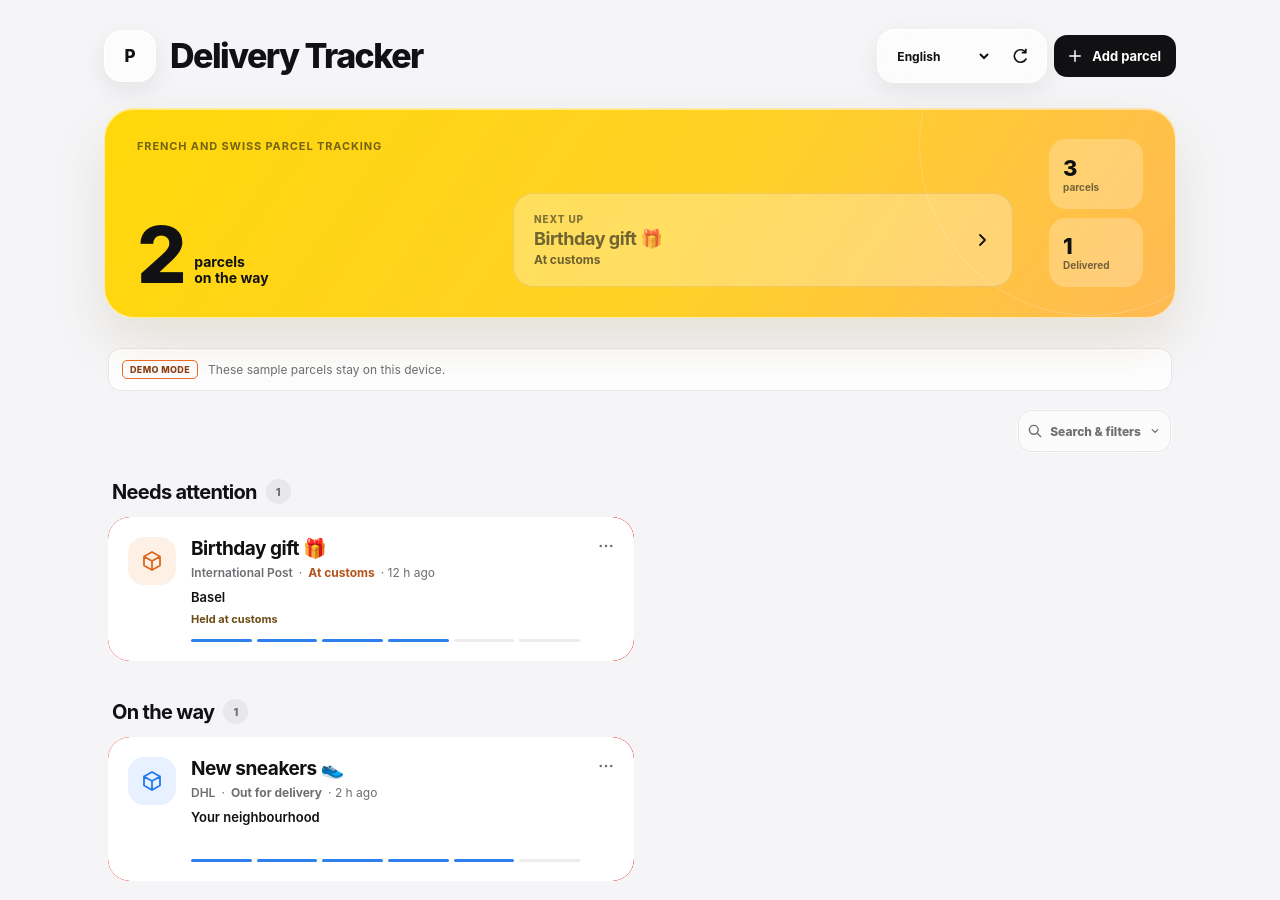
App › keeps the add sheet open and reports repository failures
Click the button with aria-label "add a parcel" at (1115, 56), box [1054,35,1176,77]
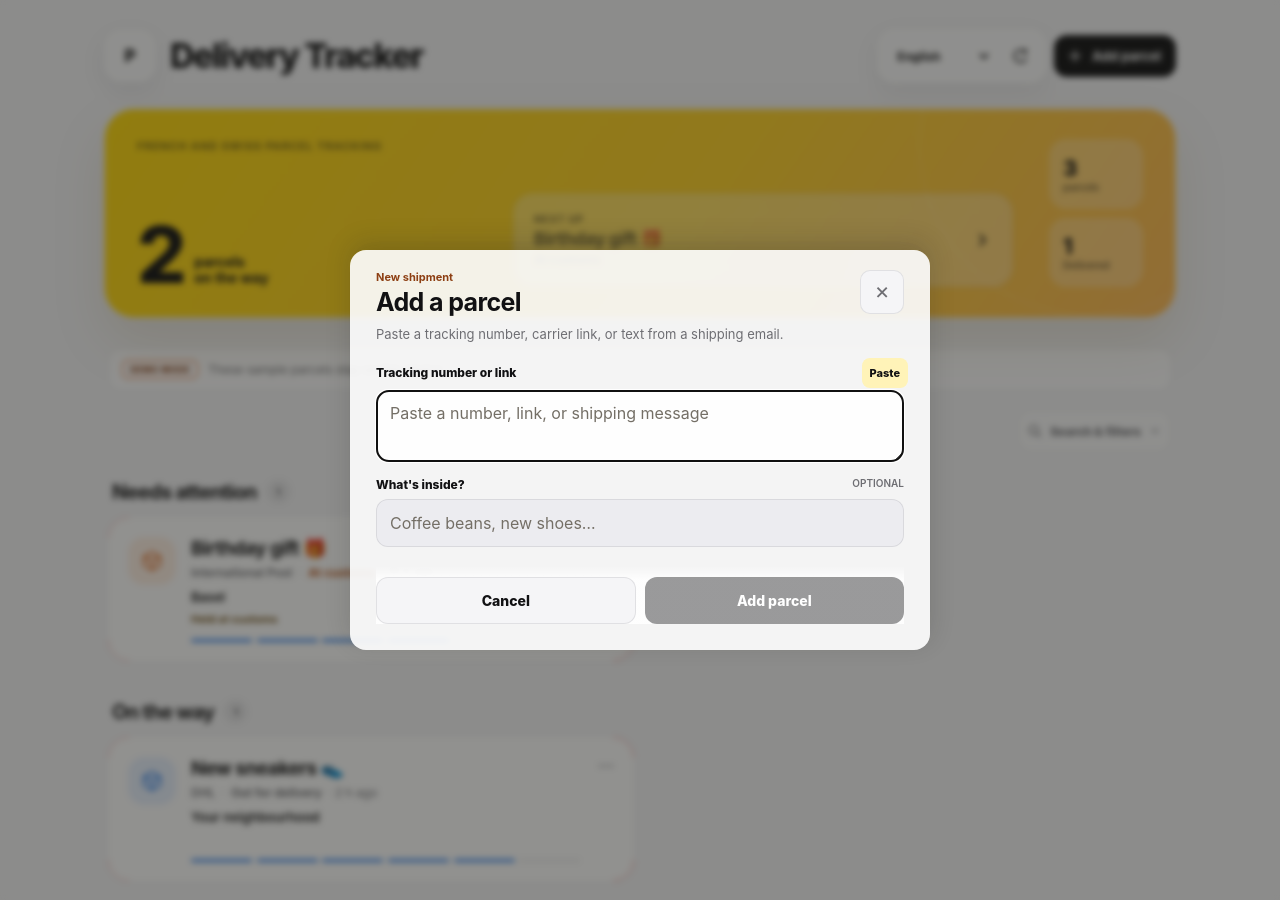
Type "123456" into the text box labelled "Tracking number or link" at (640, 426), box [376,390,904,462]
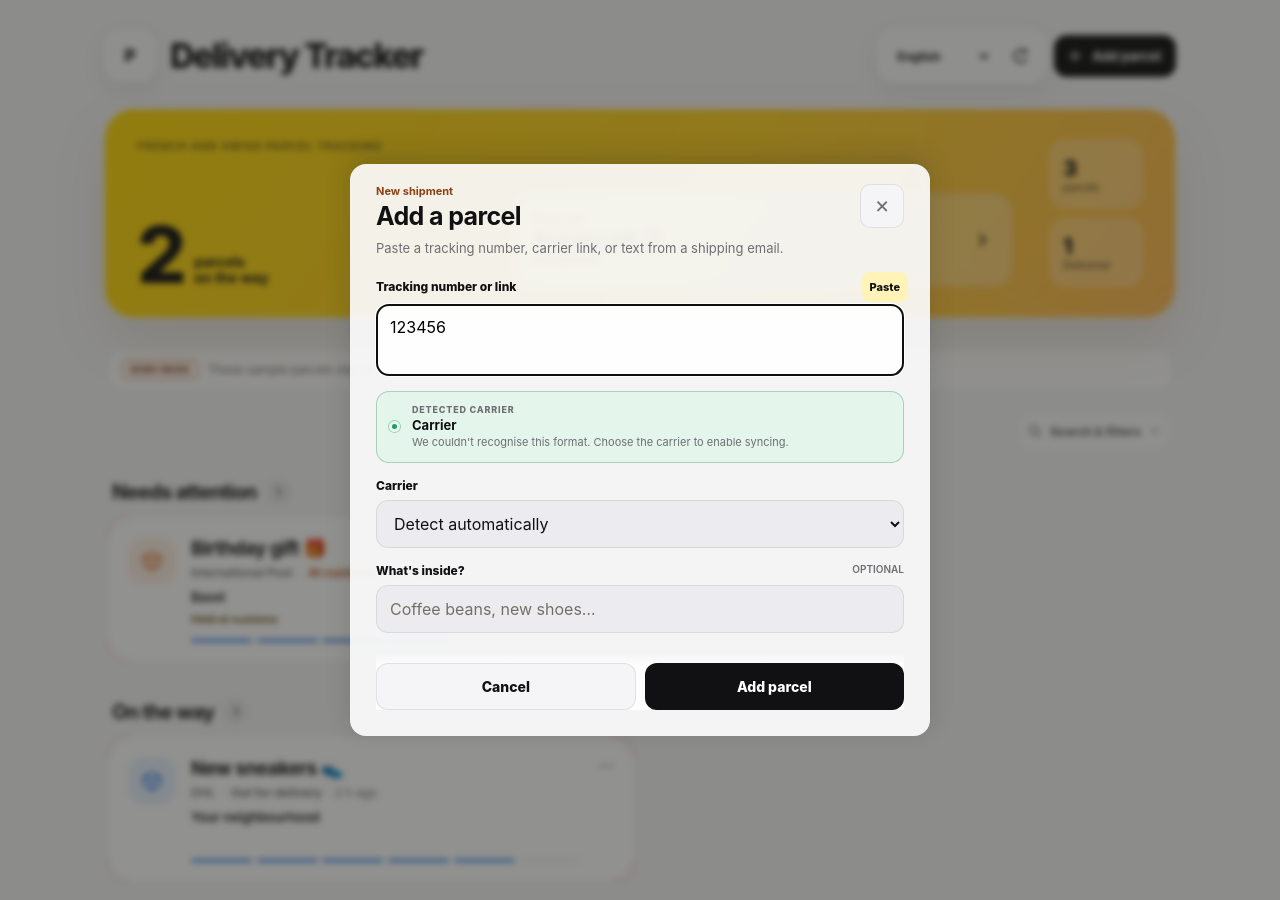
Click the button "Add parcel" at (774, 686), box [644,663,904,710]
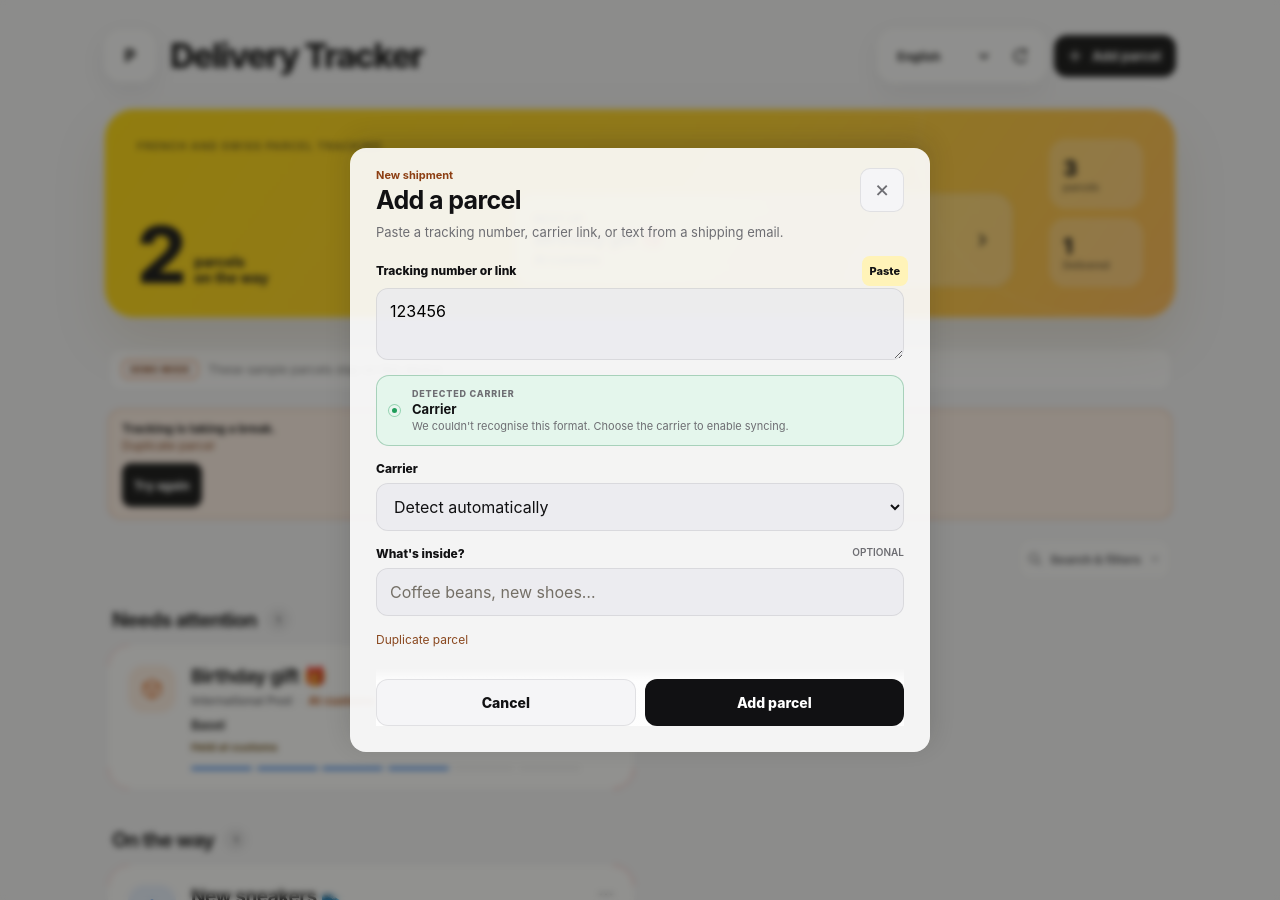
Result: the dialog "Add a parcel" is shown at [350,148,930,752]
Result: the message reads "Duplicate parcel" at [376,632,468,648]
